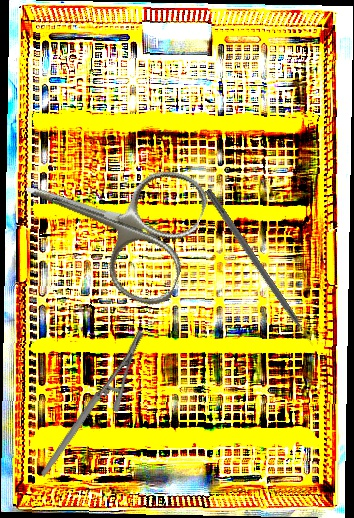Hook Surgical: (202, 188, 316, 349)
Iris Scissors: (2, 123, 214, 313)
Needle Holder: (5, 327, 179, 478)
